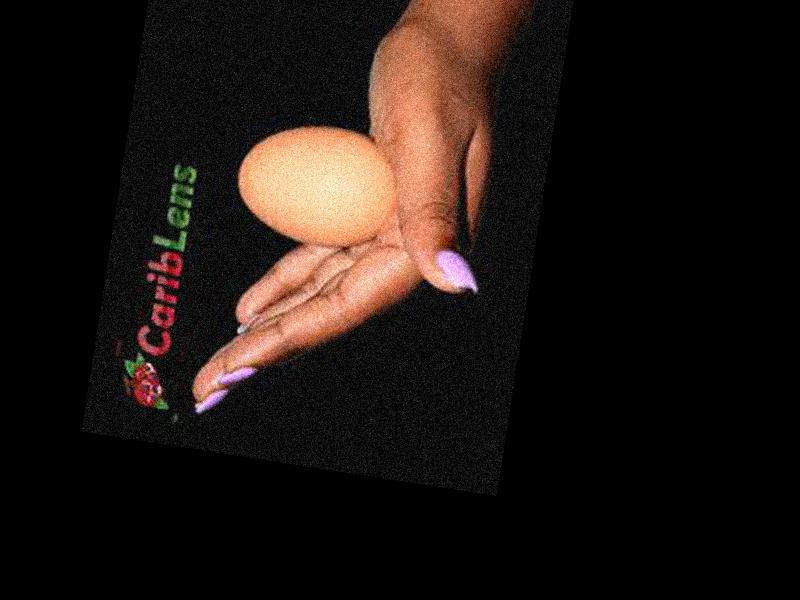Eggs: (228, 113, 403, 257)
